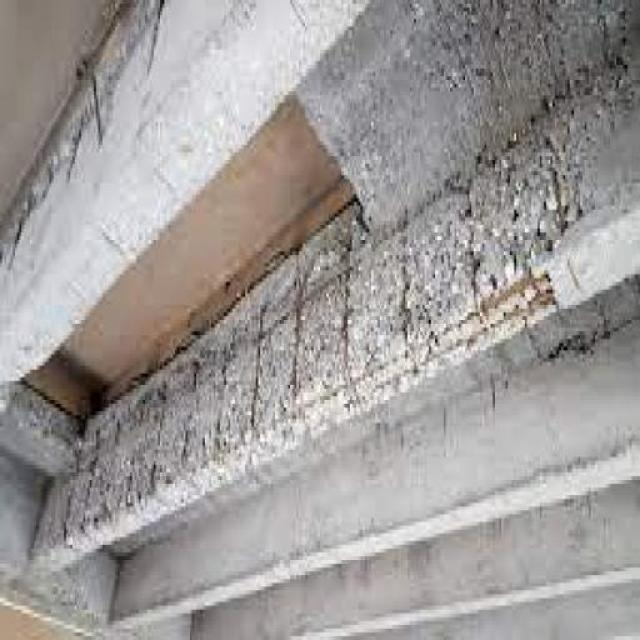D0w0: (36, 80, 622, 550)
